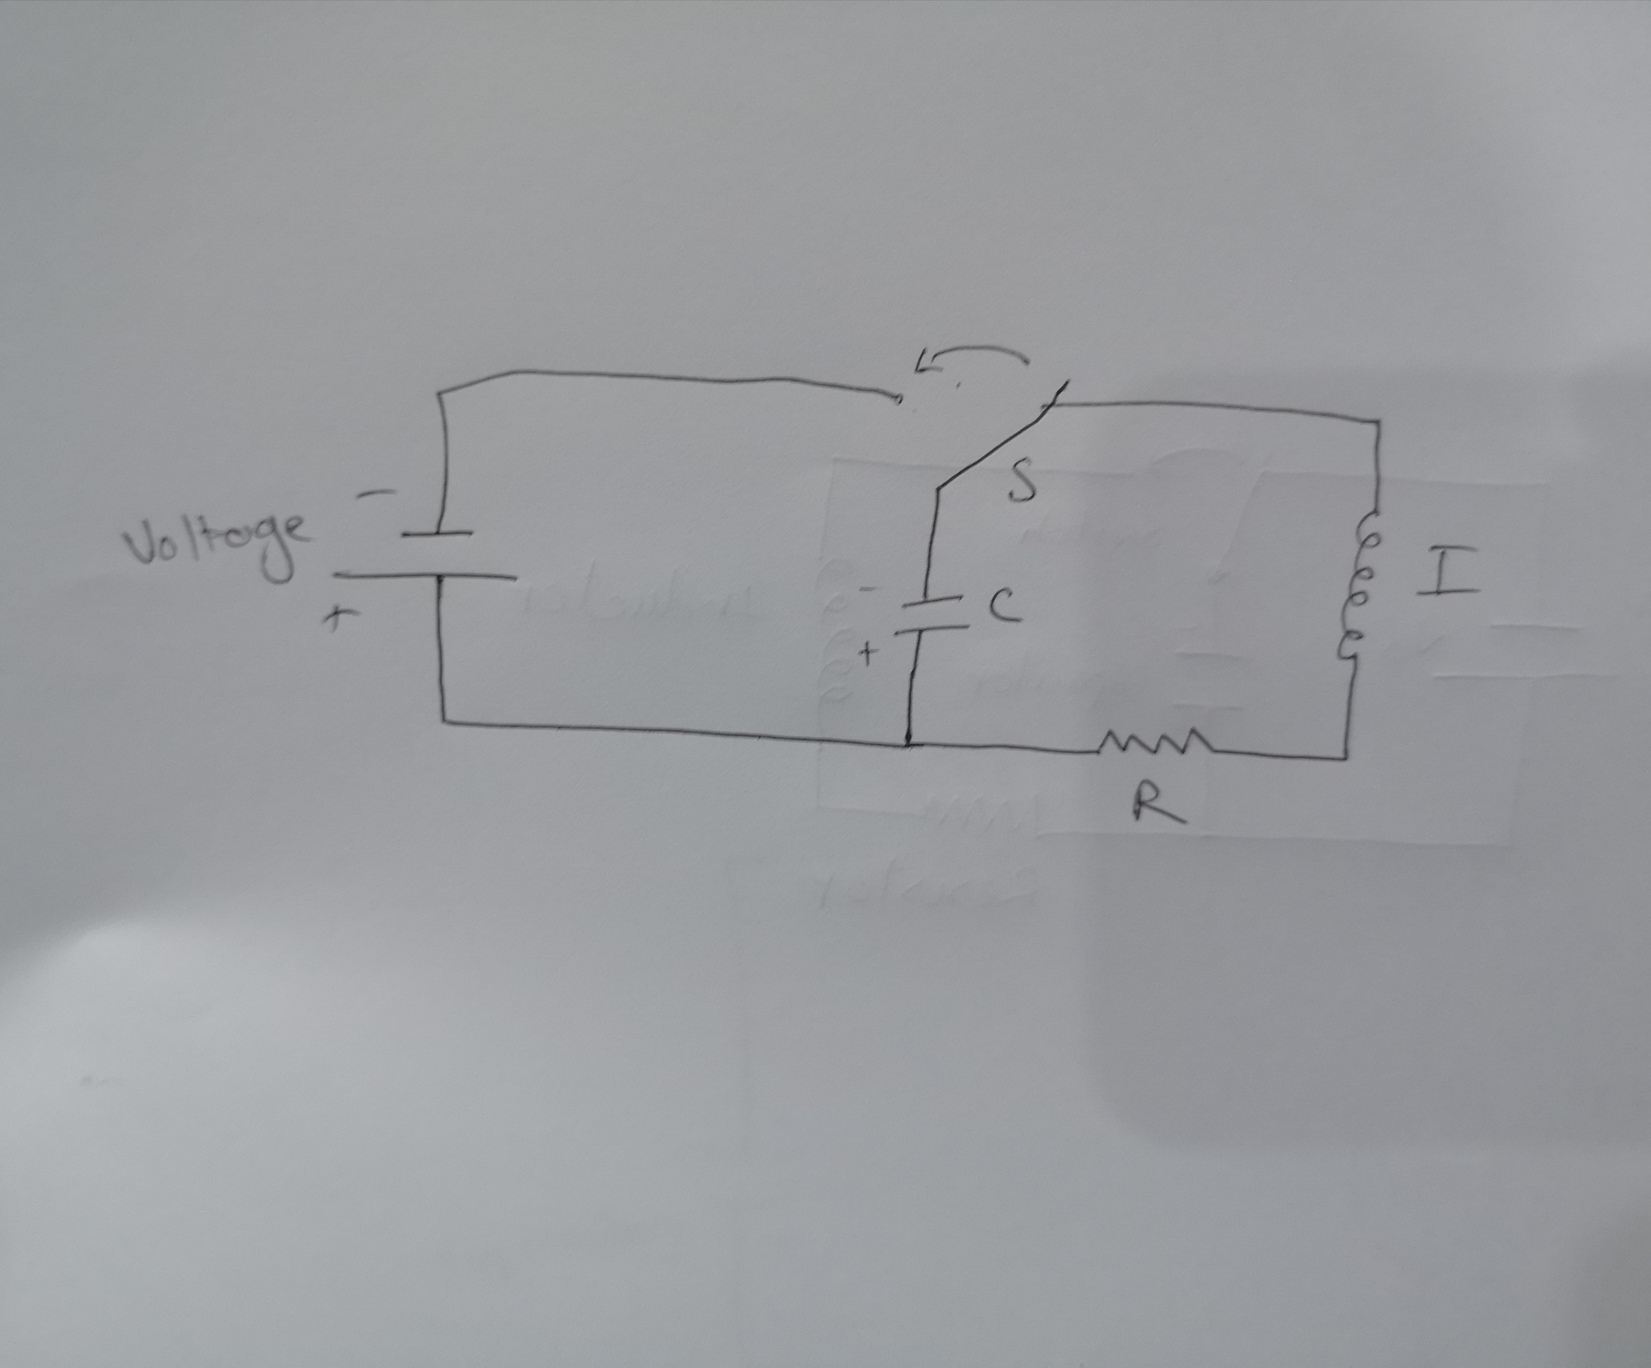capacitor.polarized: (849, 576, 975, 668)
inductor: (1327, 502, 1386, 666)
junction: (428, 705, 463, 737), (422, 378, 455, 410), (1327, 742, 1359, 773), (894, 731, 924, 757), (1367, 411, 1390, 436)
resistor: (1086, 722, 1218, 764)
switch: (889, 334, 1074, 500)
text: (112, 504, 324, 589), (1408, 539, 1486, 602), (1126, 774, 1196, 835), (1002, 454, 1044, 507), (985, 583, 1028, 626)
voltage.dc: (324, 521, 535, 594)
